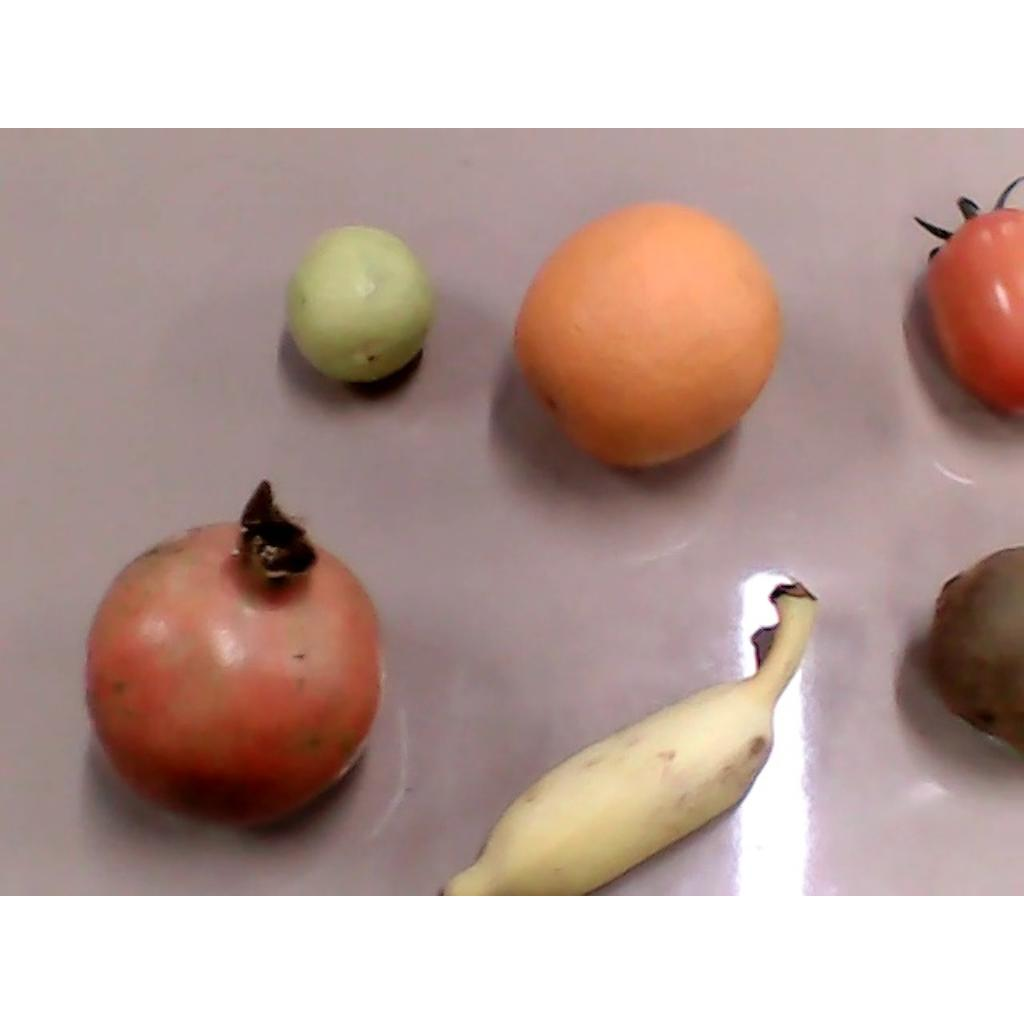kiwi: (929, 546, 1022, 753)
lemon: (285, 225, 429, 385)
orange: (513, 202, 777, 463)
pomegranate: (86, 478, 380, 830)
tomato: (916, 178, 1022, 418)
